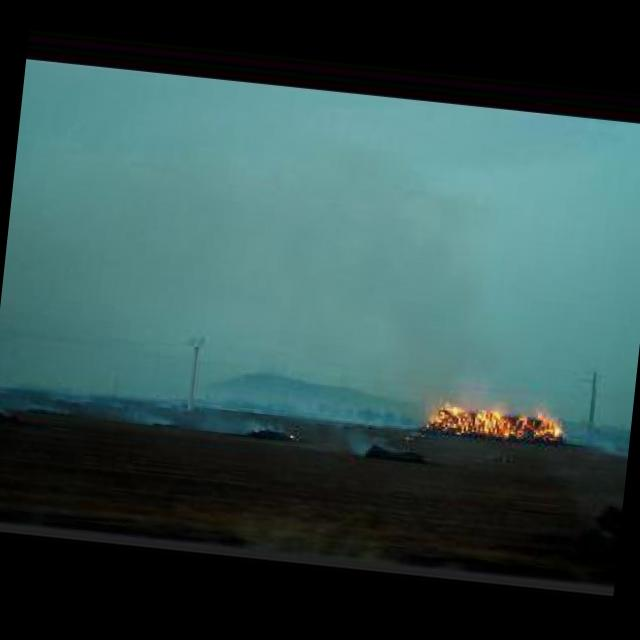fire: (426, 396, 566, 447)
